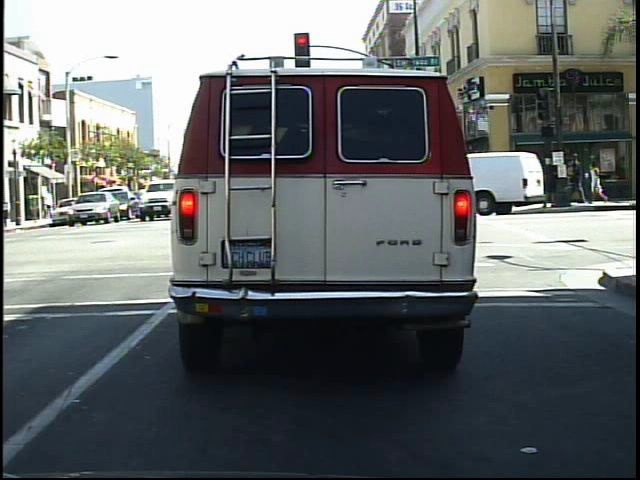person: (565, 143, 590, 211), (537, 154, 561, 210), (587, 156, 613, 206), (516, 156, 537, 209)
